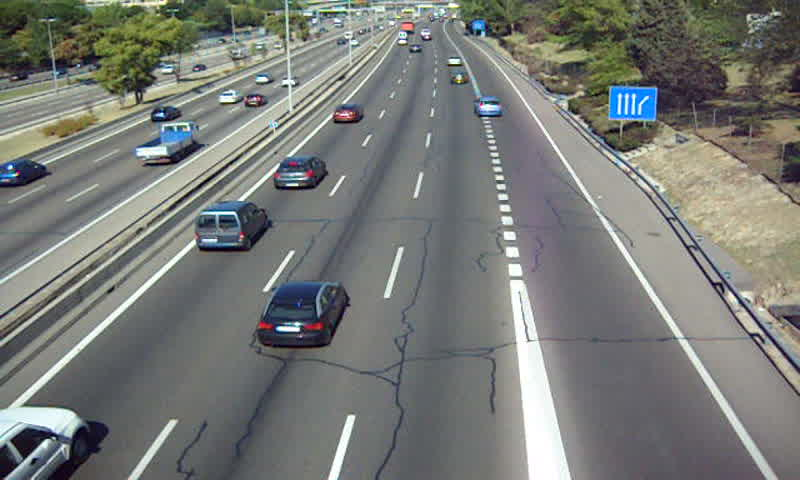car: (255, 281, 347, 348), (272, 157, 327, 190), (332, 104, 362, 125), (473, 96, 502, 116), (448, 71, 468, 85), (446, 54, 465, 66)
van: (197, 199, 267, 250)
